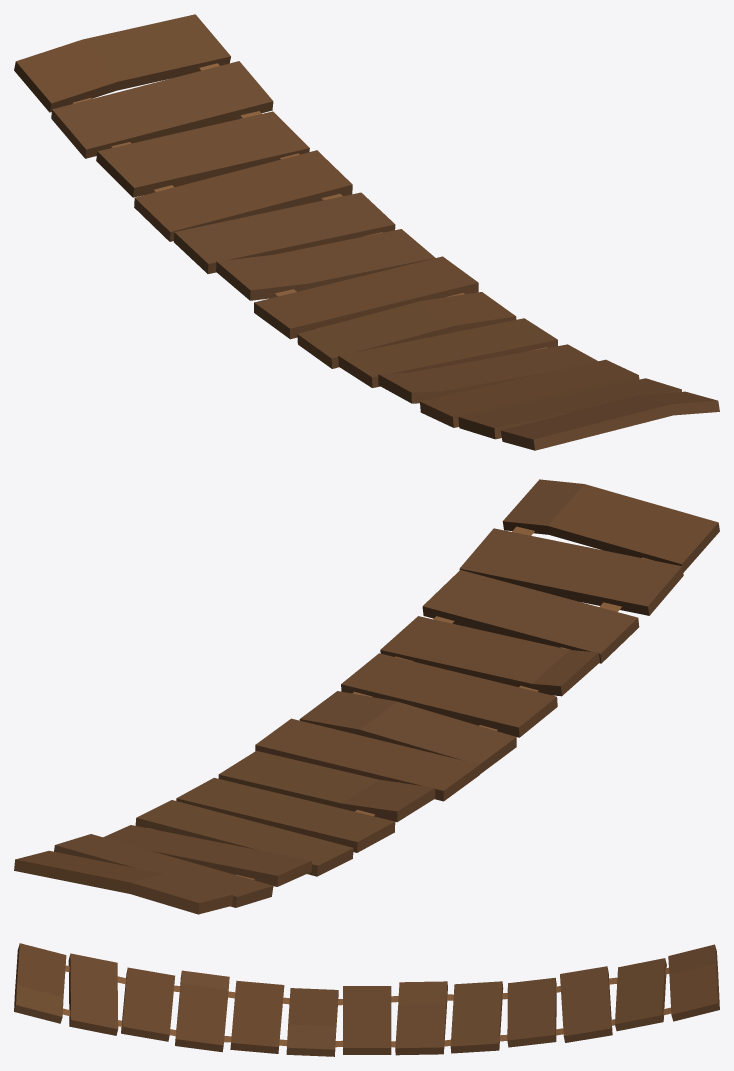
The model's file is Bridge_4_Light_Brown.fbx.
3 views of the same model, one above another, from view 1: azimuth 30°, elevation 25°; view 2: azimuth 150°, elevation 25°; view 3: azimuth 270°, elevation 25° (orthographic). The views are drawn at different scales.
Parts seen in each view (by area): view 1: Bridge_4_Light_Brown_Part_3, Bridge_4_Light_Brown_Part_1, Bridge_4_Light_Brown_Part_2; view 2: Bridge_4_Light_Brown_Part_1, Bridge_4_Light_Brown_Part_3, Bridge_4_Light_Brown_Part_2; view 3: Bridge_4_Light_Brown_Part_1, Bridge_4_Light_Brown_Part_3, Bridge_4_Light_Brown_Part_2, Bridge_4_Light_Brown_Part_4.
Boxes of the visible parts, x1=… form: Bridge_4_Light_Brown_Part_3: x1=14, y1=14, x2=395, y2=273; Bridge_4_Light_Brown_Part_1: x1=338, y1=318, x2=719, y2=450; Bridge_4_Light_Brown_Part_2: x1=216, y1=229, x2=516, y2=368; Bridge_4_Light_Brown_Part_1: x1=341, y1=479, x2=719, y2=737; Bridge_4_Light_Brown_Part_3: x1=14, y1=777, x2=395, y2=914; Bridge_4_Light_Brown_Part_2: x1=218, y1=691, x2=516, y2=822; Bridge_4_Light_Brown_Part_1: x1=14, y1=943, x2=284, y2=1053; Bridge_4_Light_Brown_Part_3: x1=450, y1=944, x2=719, y2=1053; Bridge_4_Light_Brown_Part_2: x1=286, y1=981, x2=447, y2=1056; Bridge_4_Light_Brown_Part_4: x1=62, y1=965, x2=671, y2=1047.
Size of the model in its own units: 188 by 79.21 by 906.
